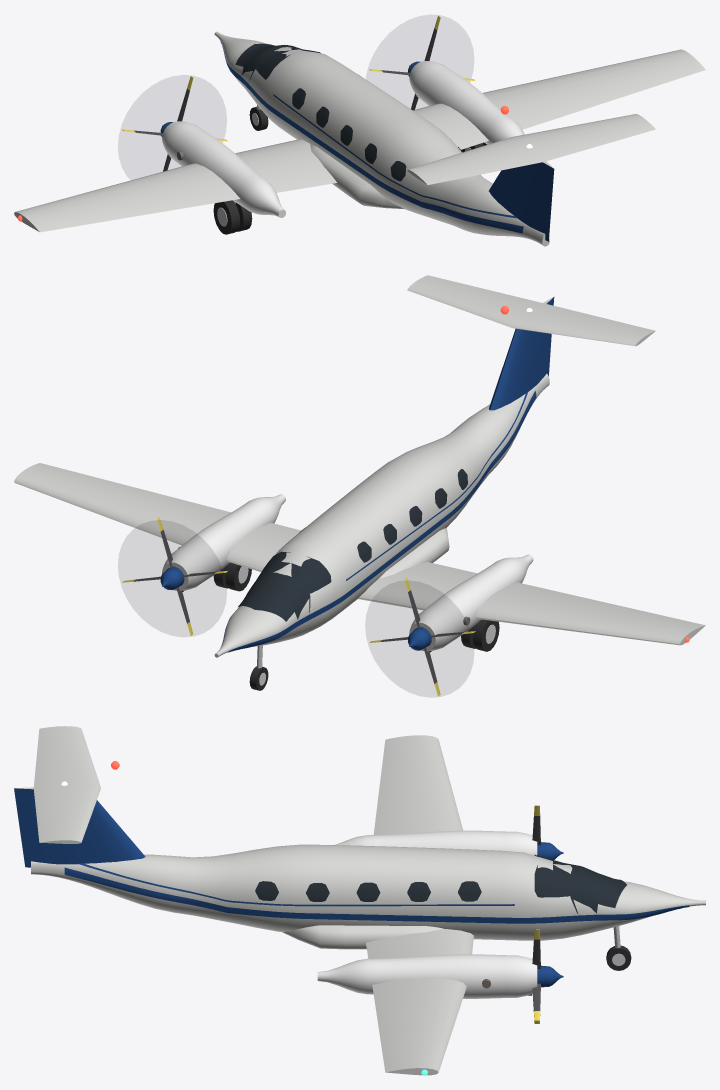
Rendered from merlin.glb.
3 views of the same model, one above another, from view 1: azimuth 30°, elevation 25°; view 2: azimuth 150°, elevation 25°; view 3: azimuth 270°, elevation 25° (orthographic). The views are drawn at different scales.
Visible parts, largest first — view 1: Body, PropBlur_L, PropBlur_R, Gear, Prop_L, Prop_R; view 2: Body, PropBlur_R, PropBlur_L, Gear, Prop_L, Prop_R; view 3: Body, Prop_R, Gear, Prop_L.
Part boxes in pixels (<box>): Body: <box>14,31,705,246</box>; PropBlur_L: <box>118,75,226,179</box>; PropBlur_R: <box>366,15,473,108</box>; Gear: <box>213,105,486,234</box>; Prop_L: <box>122,76,227,171</box>; Prop_R: <box>369,15,475,110</box>; Body: <box>14,275,705,657</box>; PropBlur_R: <box>118,520,226,636</box>; PropBlur_L: <box>366,581,473,696</box>; Gear: <box>213,562,499,690</box>; Prop_L: <box>369,577,475,696</box>; Prop_R: <box>122,517,227,635</box>; Body: <box>14,726,705,1075</box>; Prop_R: <box>532,929,563,1023</box>; Gear: <box>606,926,631,970</box>; Prop_L: <box>532,805,563,859</box>.
Bounding box in the file's own units: 14.11 × 4.16 × 12.3.
